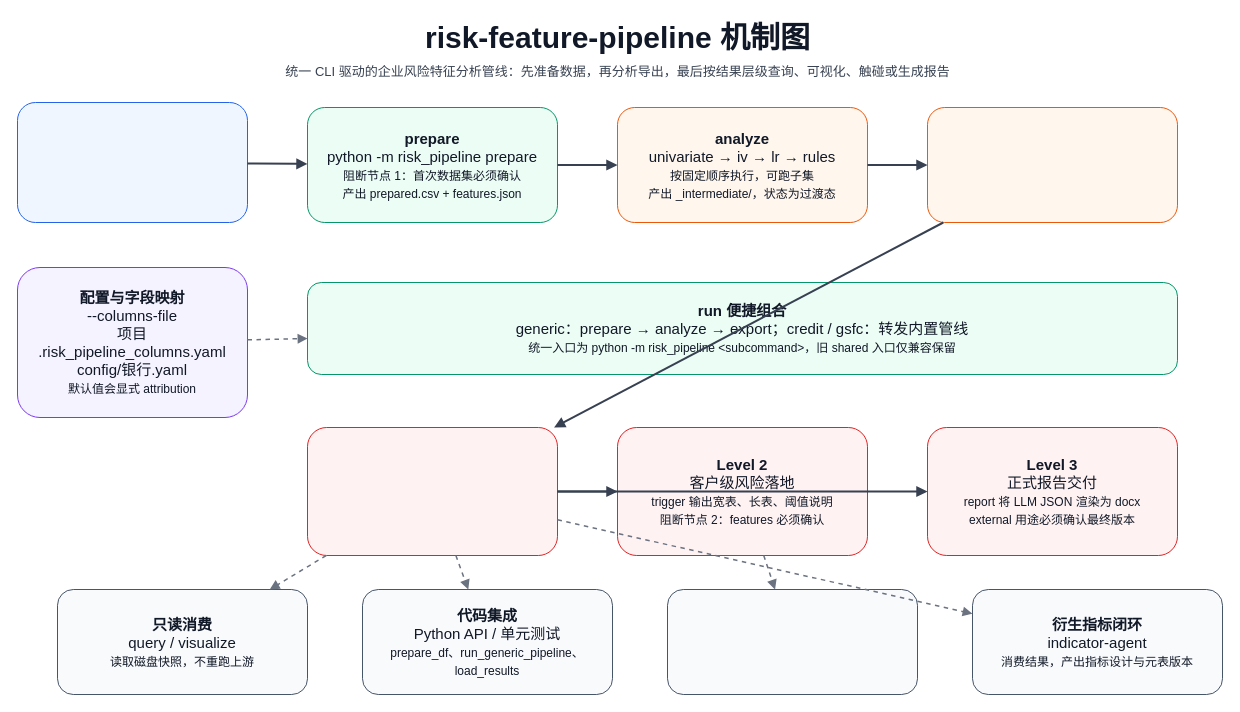
The diagram is 1240 pixels wide and 712 high, and some of its shapes have lost their labels. The centre of each missing label's shape, as x and y in pixels:
export 标准 CSV + LLM JSON 8 张分析表、分群画像、规则表 推进到 Level 1: pixel 1052 164
Level 1 分析结论可用 可 query / visualize / 人工审阅 不可直接对外交付或写预警名单: pixel 432 491
LLM / MCP 集成 MCP Server 异步工具 run_pipeline、query_results、extract_triggers: pixel 792 641
输入数据 原始宽表 CSV 坏客户清单或目标列 主键 + 二分类目标 + 数值特征: pixel 132 162
